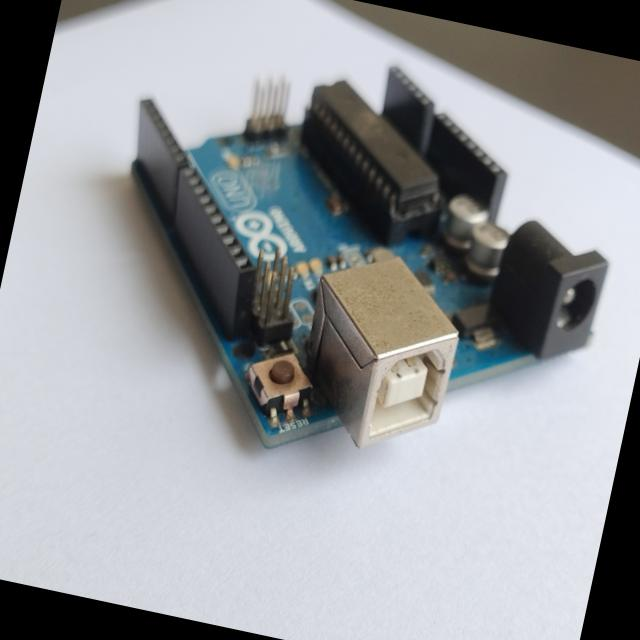arduino: (57, 0, 640, 533)
